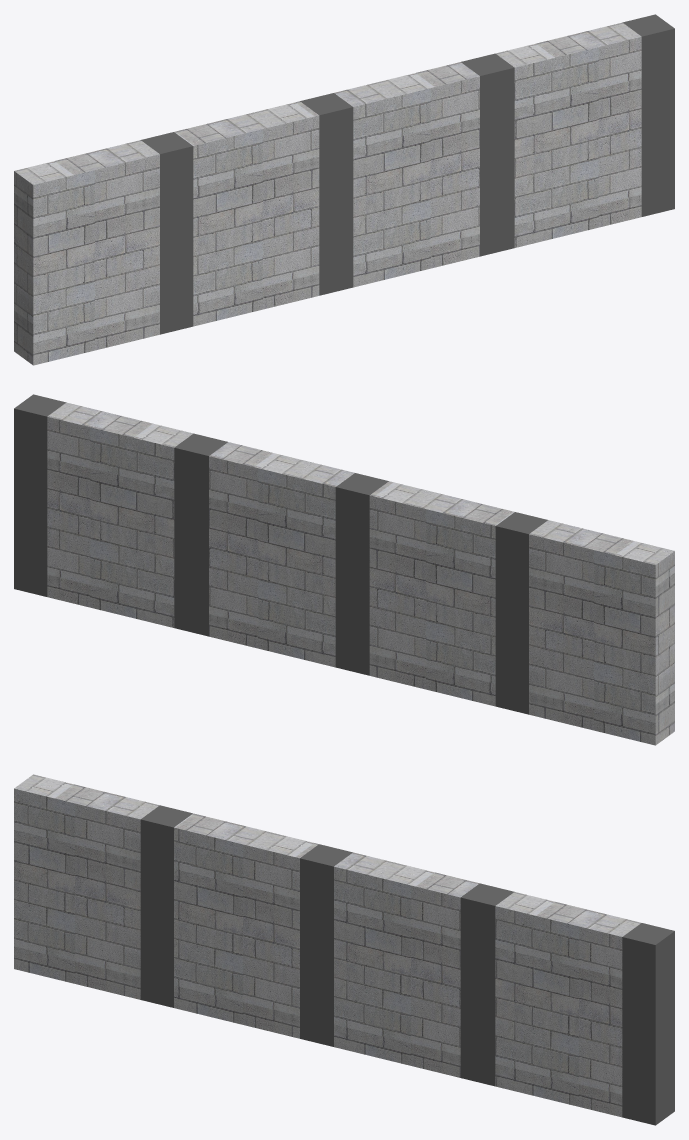
Rendered from pared.glb.
3 views of the same model, one above another, from view 1: azimuth 30°, elevation 25°; view 2: azimuth 150°, elevation 25°; view 3: azimuth 330°, elevation 25° (orthographic).
Parts seen in each view (by area): view 1: Cube; view 2: Cube; view 3: Cube.
Boxes of the visible parts, left/top/right/bottom form: Cube: left=14, top=14, right=674, bottom=365; Cube: left=14, top=394, right=674, bottom=745; Cube: left=14, top=774, right=674, bottom=1125.
Bounding box in the file's own units: 7.44 × 2 × 0.3891.
2 materials, 1 textured.
